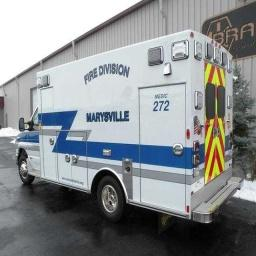Ambulance: (16, 30, 241, 222)
